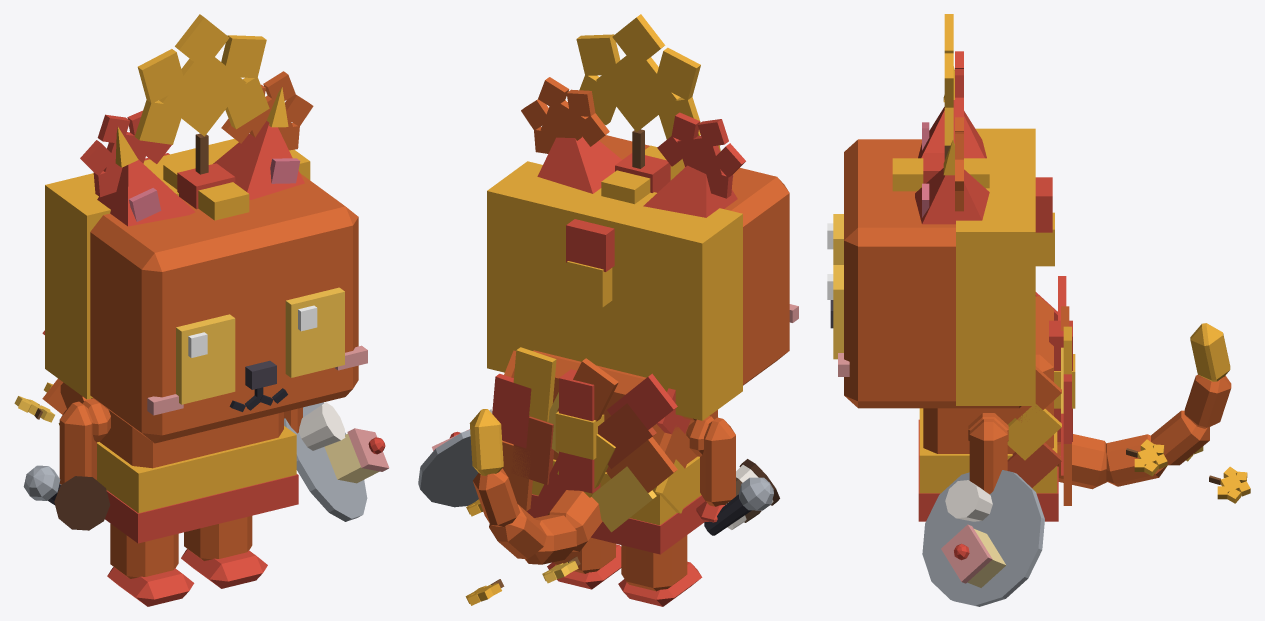
File: CatCafe_Cat_MapleLeaf_Work.glb
3 renders of one model, left to right at view 1: azimuth 30°, elevation 25°; view 2: azimuth 150°, elevation 25°; view 3: azimuth 270°, elevation 25°, orthographic. The views are drawn at different scales.
Parts seen in each view (by area): view 1: CatCafe_Cat_MapleLeaf_Work_Head, CatCafe_Cat_MapleLeaf_Work_Body, CatCafe_Cat_MapleLeaf_Work_Glow, CatCafe_Cat_MapleLeaf_Work_Held_Waiter, CatCafe_Cat_MapleLeaf_Work_Prop, CatCafe_Cat_MapleLeaf_Work_Eye1, CatCafe_Cat_MapleLeaf_Work_Eye2, CatCafe_Cat_MapleLeaf_Work_LegB2, CatCafe_Cat_MapleLeaf_Work_EarL, CatCafe_Cat_MapleLeaf_Work_LegB1, CatCafe_Cat_MapleLeaf_Work_EarR, CatCafe_Cat_MapleLeaf_Work_LegF2 (+4 smaller); view 2: CatCafe_Cat_MapleLeaf_Work_Head, CatCafe_Cat_MapleLeaf_Work_Prop2, CatCafe_Cat_MapleLeaf_Work_Body, CatCafe_Cat_MapleLeaf_Work_Glow, CatCafe_Cat_MapleLeaf_Work_Tail, CatCafe_Cat_MapleLeaf_Work_Prop, CatCafe_Cat_MapleLeaf_Work_LegB2, CatCafe_Cat_MapleLeaf_Work_Held_Waiter, CatCafe_Cat_MapleLeaf_Work_EarL, CatCafe_Cat_MapleLeaf_Work_LegF2, CatCafe_Cat_MapleLeaf_Work_EarR, CatCafe_Cat_MapleLeaf_Work_LegB1 (+3 smaller); view 3: CatCafe_Cat_MapleLeaf_Work_Head, CatCafe_Cat_MapleLeaf_Work_Held_Waiter, CatCafe_Cat_MapleLeaf_Work_Body, CatCafe_Cat_MapleLeaf_Work_Tail, CatCafe_Cat_MapleLeaf_Work_Prop2, CatCafe_Cat_MapleLeaf_Work_EarL, CatCafe_Cat_MapleLeaf_Work_LegF1, CatCafe_Cat_MapleLeaf_Work_Leaves_Glow, CatCafe_Cat_MapleLeaf_Work_EarR, CatCafe_Cat_MapleLeaf_Work_Prop, CatCafe_Cat_MapleLeaf_Work_Glow, CatCafe_Cat_MapleLeaf_Work_Eye1 (+1 smaller).
Boxes of the visible parts, x1=… form: CatCafe_Cat_MapleLeaf_Work_Head: x1=45, y1=138, x2=367, y2=443; CatCafe_Cat_MapleLeaf_Work_Body: x1=82, y1=398, x2=298, y2=543; CatCafe_Cat_MapleLeaf_Work_Glow: x1=134, y1=14, x2=269, y2=174; CatCafe_Cat_MapleLeaf_Work_Held_Waiter: x1=284, y1=402, x2=389, y2=521; CatCafe_Cat_MapleLeaf_Work_Prop: x1=80, y1=71, x2=313, y2=197; CatCafe_Cat_MapleLeaf_Work_Eye1: x1=285, y1=287, x2=344, y2=377; CatCafe_Cat_MapleLeaf_Work_Eye2: x1=176, y1=314, x2=235, y2=404; CatCafe_Cat_MapleLeaf_Work_LegB2: x1=107, y1=523, x2=194, y2=606; CatCafe_Cat_MapleLeaf_Work_EarL: x1=213, y1=87, x2=304, y2=199; CatCafe_Cat_MapleLeaf_Work_LegB1: x1=181, y1=516, x2=267, y2=588; CatCafe_Cat_MapleLeaf_Work_EarR: x1=97, y1=127, x2=195, y2=226; CatCafe_Cat_MapleLeaf_Work_LegF2: x1=59, y1=401, x2=96, y2=484; CatCafe_Cat_MapleLeaf_Work_Head: x1=487, y1=135, x2=798, y2=420; CatCafe_Cat_MapleLeaf_Work_Prop2: x1=492, y1=347, x2=694, y2=532; CatCafe_Cat_MapleLeaf_Work_Body: x1=526, y1=350, x2=717, y2=554; CatCafe_Cat_MapleLeaf_Work_Glow: x1=576, y1=14, x2=700, y2=168; CatCafe_Cat_MapleLeaf_Work_Tail: x1=469, y1=409, x2=602, y2=564; CatCafe_Cat_MapleLeaf_Work_Prop: x1=521, y1=77, x2=745, y2=198; CatCafe_Cat_MapleLeaf_Work_LegB2: x1=618, y1=535, x2=702, y2=606; CatCafe_Cat_MapleLeaf_Work_Held_Waiter: x1=418, y1=408, x2=492, y2=507; CatCafe_Cat_MapleLeaf_Work_EarL: x1=537, y1=100, x2=621, y2=193; CatCafe_Cat_MapleLeaf_Work_LegF2: x1=696, y1=417, x2=735, y2=522; CatCafe_Cat_MapleLeaf_Work_EarR: x1=643, y1=145, x2=737, y2=217; CatCafe_Cat_MapleLeaf_Work_LegB1: x1=547, y1=537, x2=621, y2=589; CatCafe_Cat_MapleLeaf_Work_Head: x1=830, y1=128, x2=1054, y2=408; CatCafe_Cat_MapleLeaf_Work_Held_Waiter: x1=922, y1=470, x2=1044, y2=606; CatCafe_Cat_MapleLeaf_Work_Body: x1=918, y1=296, x2=1075, y2=521; CatCafe_Cat_MapleLeaf_Work_Tail: x1=1057, y1=323, x2=1231, y2=489; CatCafe_Cat_MapleLeaf_Work_Prop2: x1=1005, y1=276, x2=1071, y2=505; CatCafe_Cat_MapleLeaf_Work_EarL: x1=915, y1=140, x2=989, y2=224; CatCafe_Cat_MapleLeaf_Work_LegF1: x1=969, y1=419, x2=1007, y2=494; CatCafe_Cat_MapleLeaf_Work_Leaves_Glow: x1=1126, y1=439, x2=1250, y2=503; CatCafe_Cat_MapleLeaf_Work_EarR: x1=918, y1=66, x2=986, y2=158; CatCafe_Cat_MapleLeaf_Work_Prop: x1=955, y1=51, x2=963, y2=211; CatCafe_Cat_MapleLeaf_Work_Glow: x1=944, y1=14, x2=953, y2=160; CatCafe_Cat_MapleLeaf_Work_Eye1: x1=827, y1=265, x2=843, y2=359.
Bounding box in the file's own units: 1.53 × 2.42 × 1.7.
Materials: 1 (1 with a texture image).
